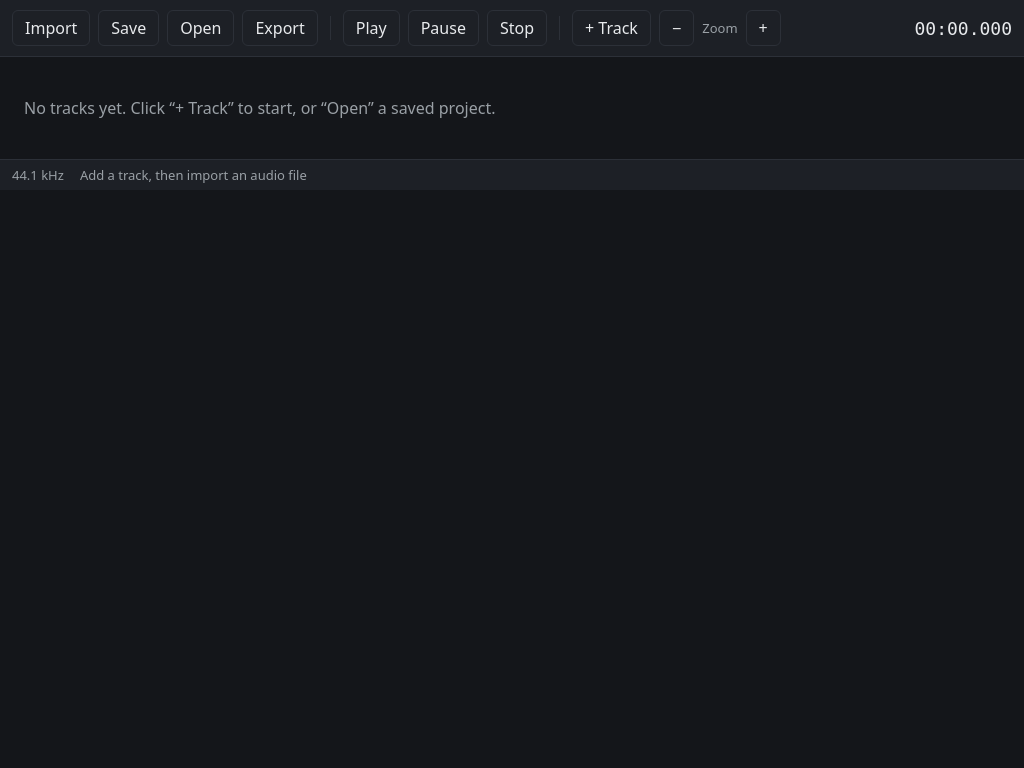
App › imports a clip and marks the project as unsaved (A3 4.4)
Click the button "+ Track" at (611, 28), box 572,10 -> 651,46
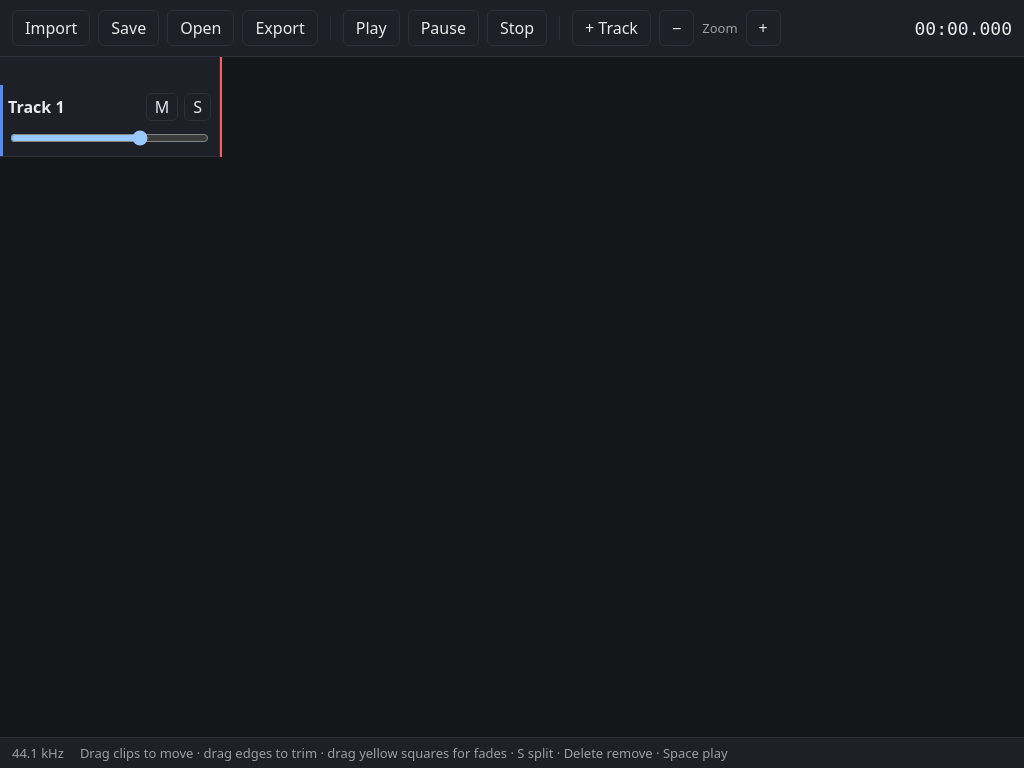
Click the button "Import" at (51, 28), box 12,10 -> 90,46
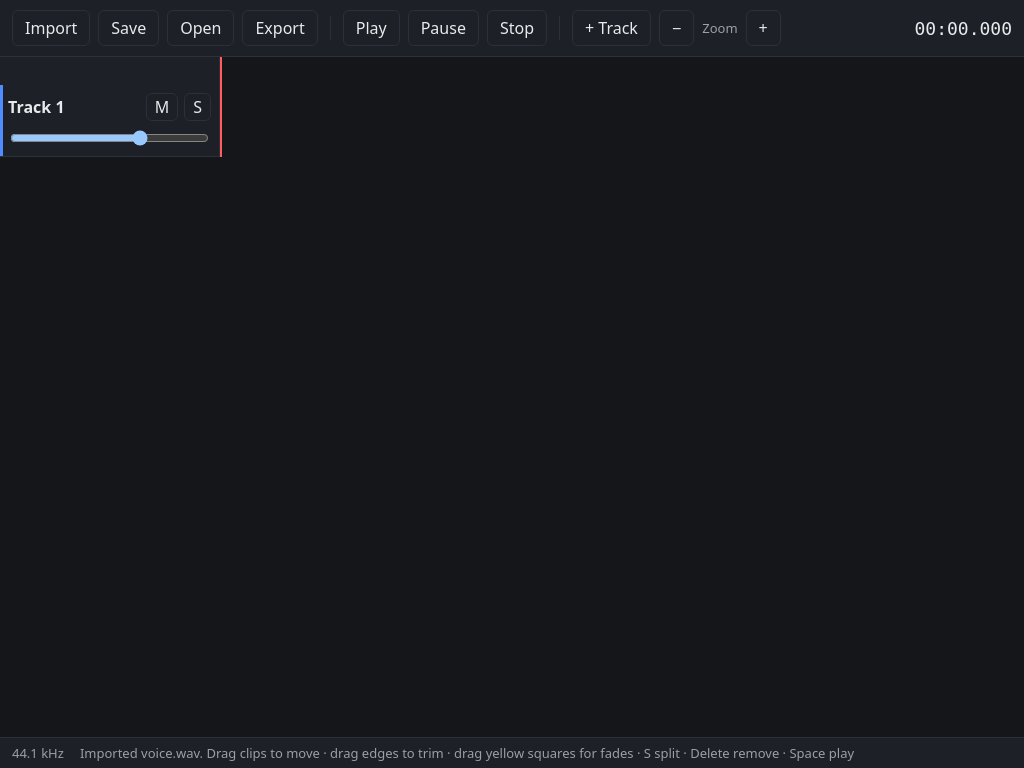
expect the text "Imported voice.wav" is shown: met, box 80,744 -> 854,762
